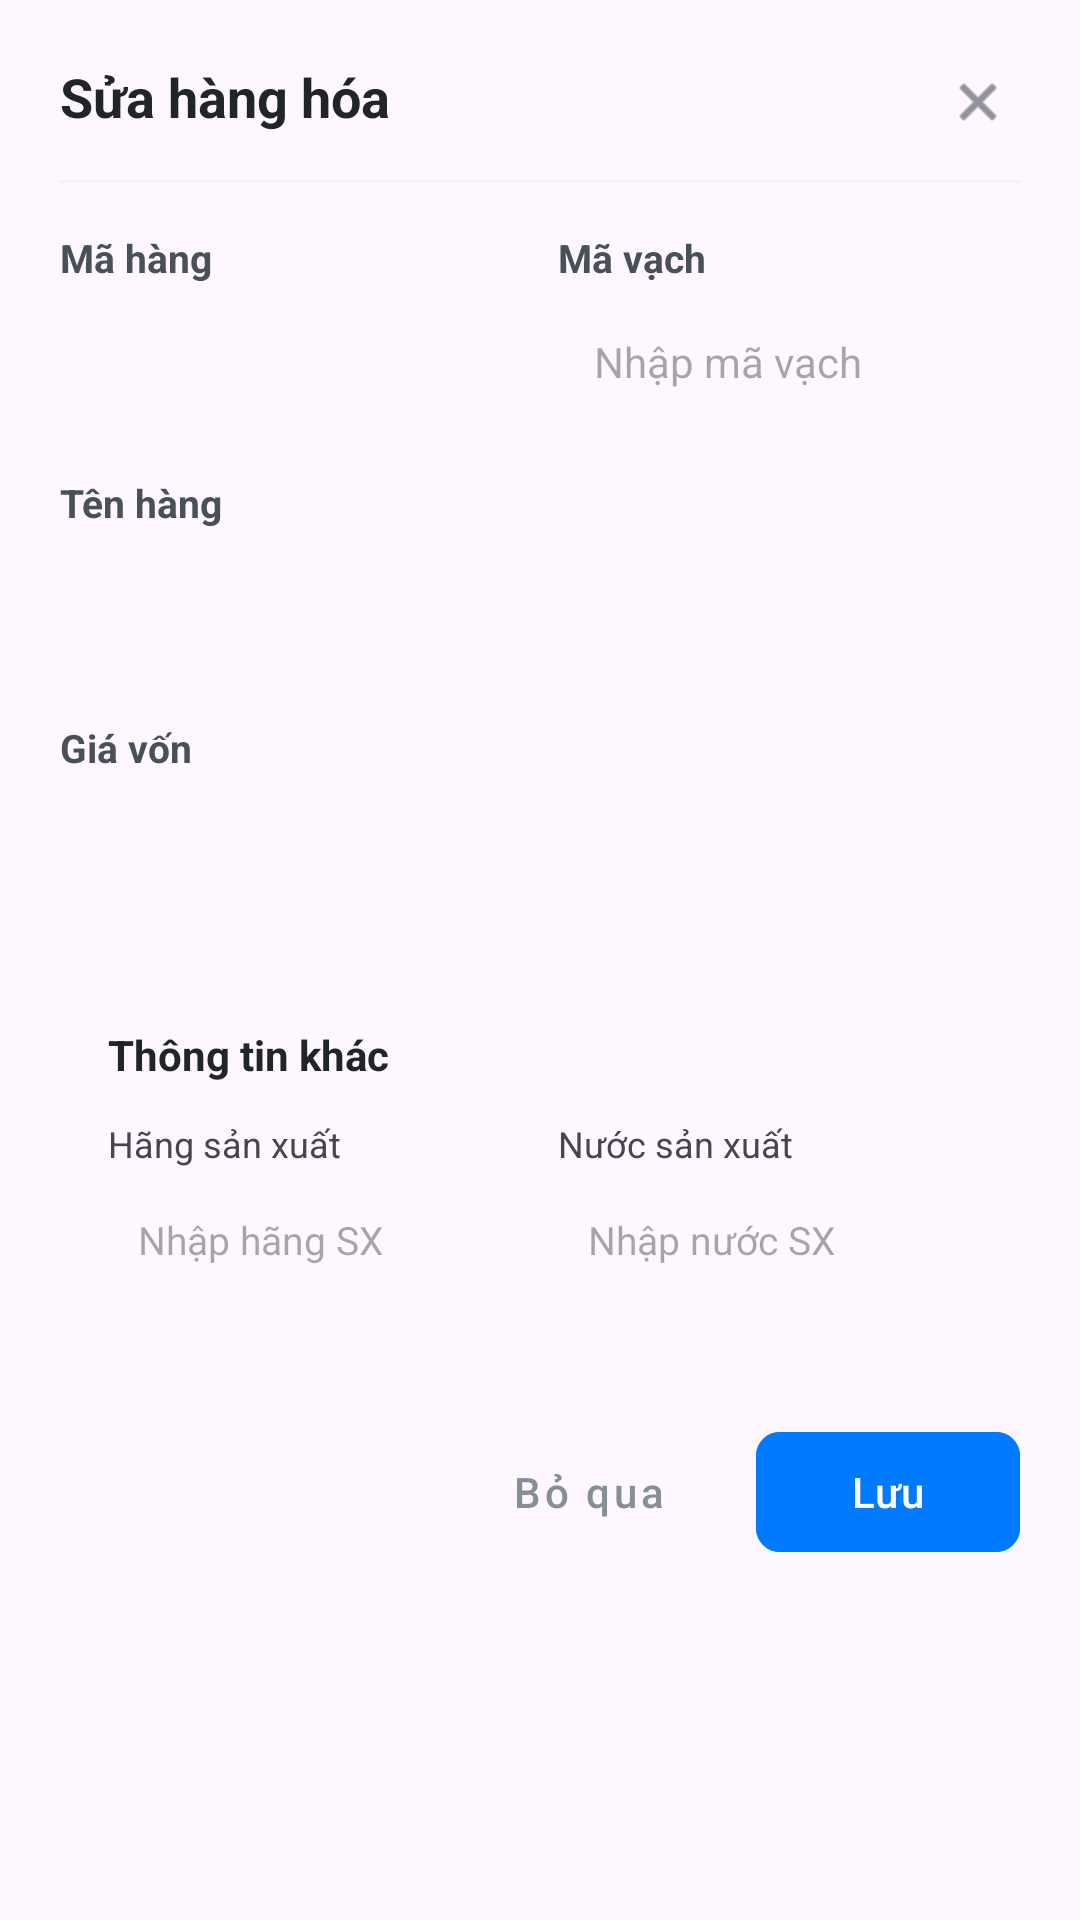

Where icons sit on this 1080w x 1920h app screen, as (x1, y1, x2, y2):
close clear cancel: (959, 83, 997, 121)
